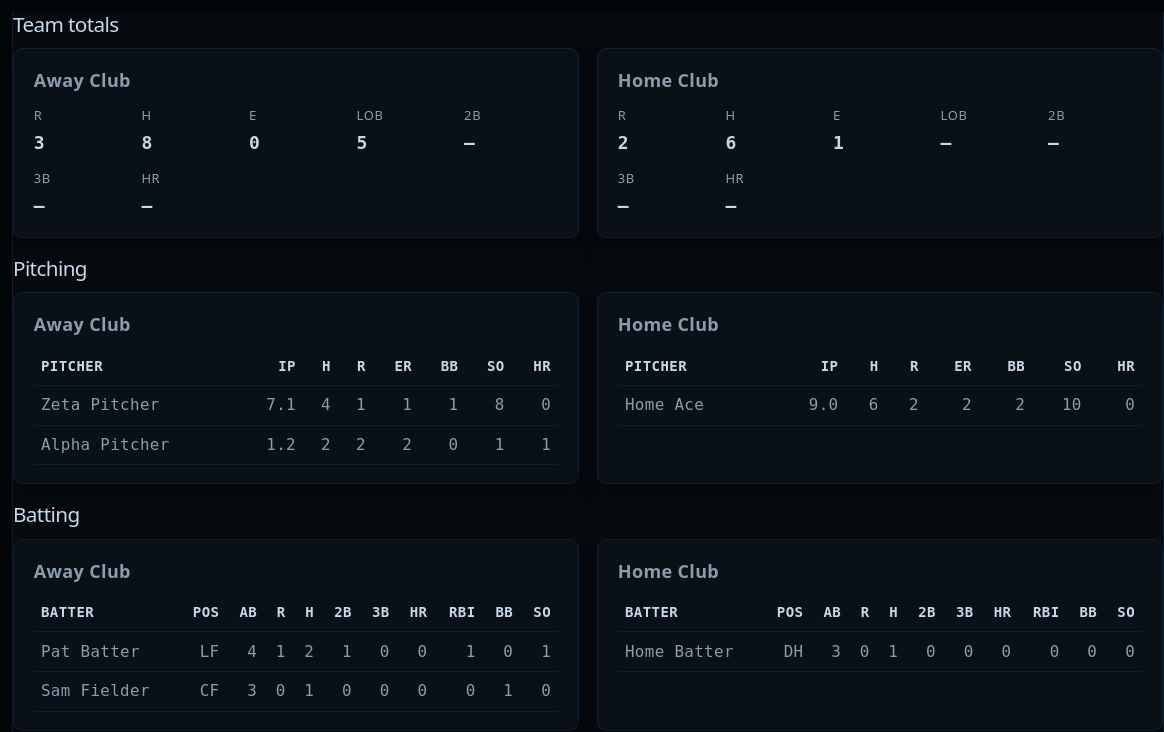
Test: GameBoxscorePanel › sorts a batting table by a string column and resets to insertion order on a third click
The width and height of the screenshot is (1164, 732).
Click the 1st button "Pos" at (206, 612), box [193, 599, 219, 625]
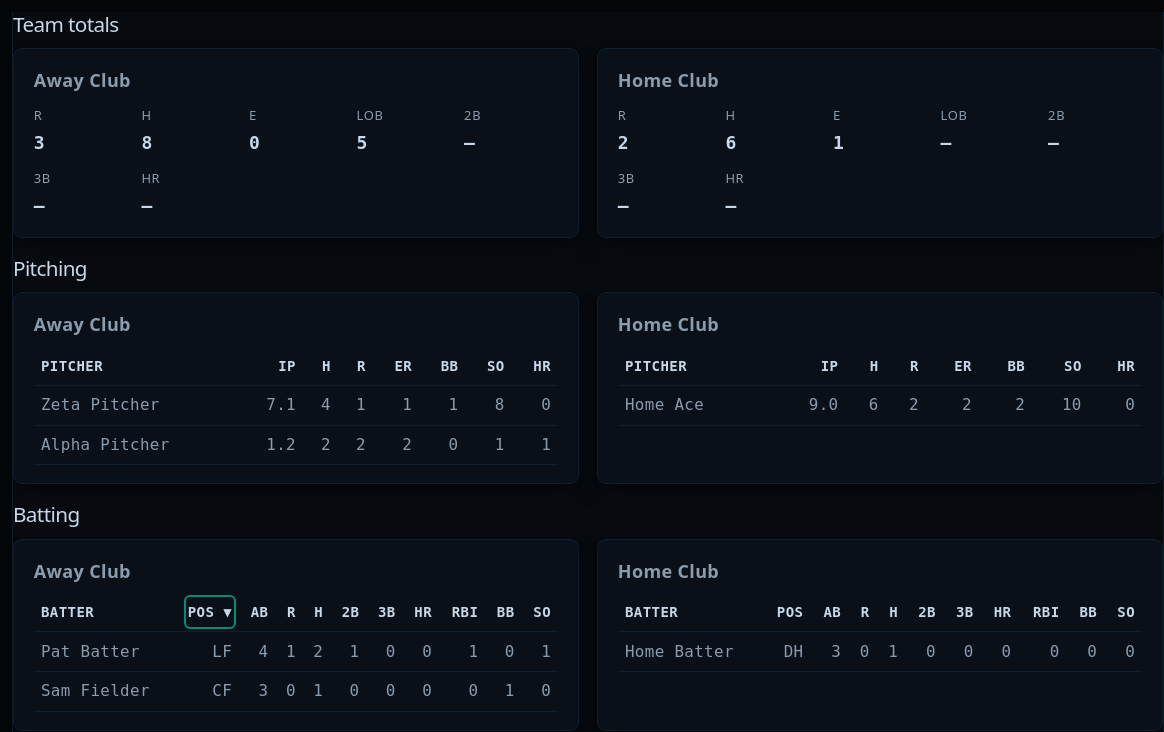
expect the row "Pat Batter LF 4 1 2 1 0 0 1 0 1" is shown: met, box [34, 632, 558, 672]
Click the button "Pos ▼" at (210, 612), box [188, 599, 232, 625]
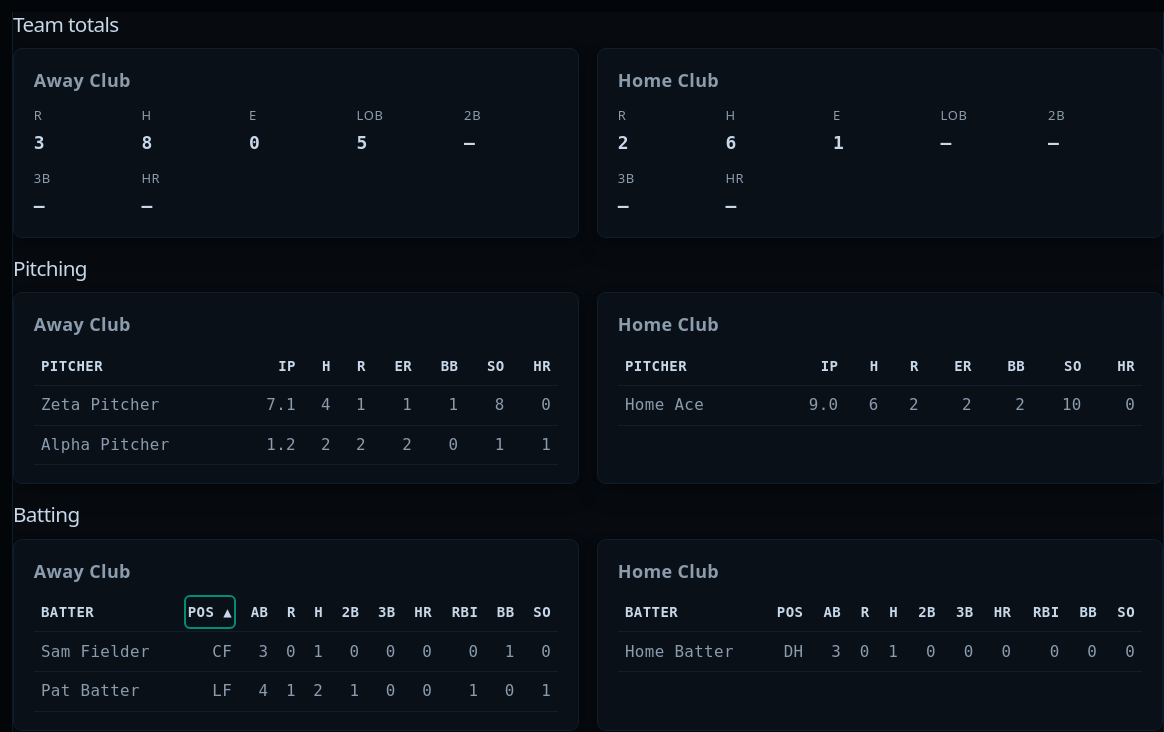
expect the row "Sam Fielder CF 3 0 1 0 0 0 0 1 0" is shown: met, box [34, 632, 558, 672]
Click the button "Pos ▲" at (210, 612), box [188, 599, 232, 625]
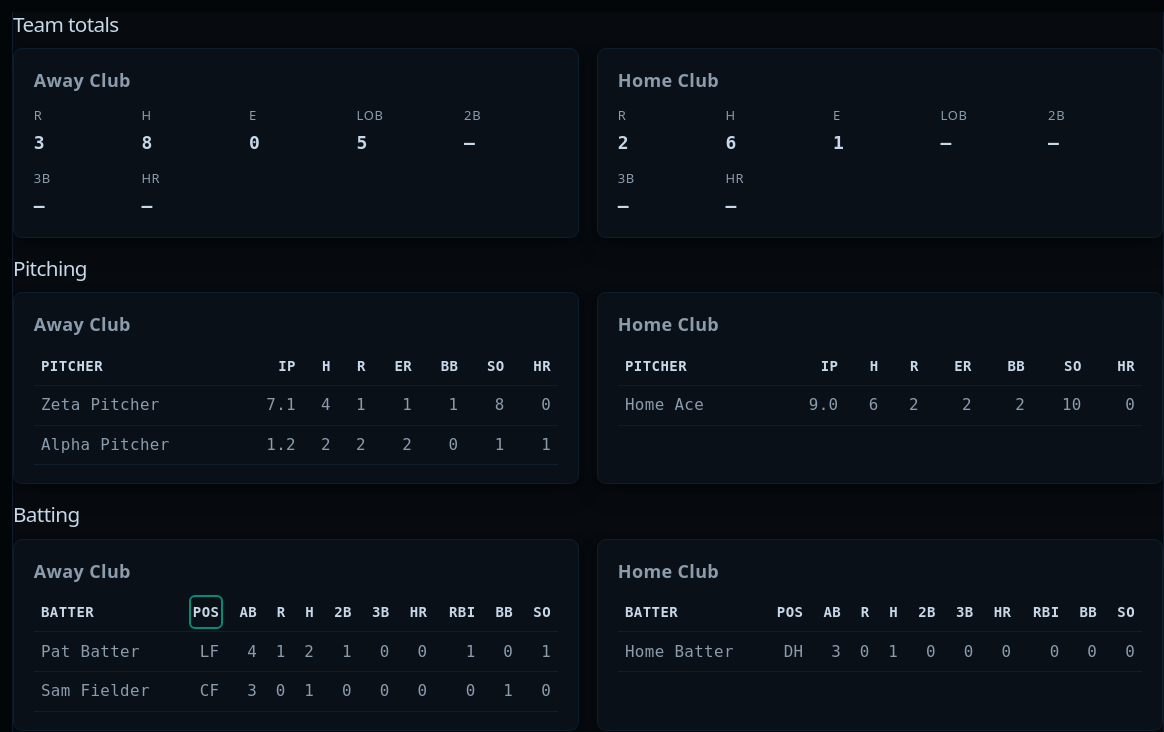
expect the row "Pat Batter LF 4 1 2 1 0 0 1 0 1" is shown: met, box [34, 632, 558, 672]
expect the button "Pos ▲" is gone: met
